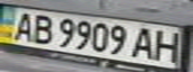0: (90, 20, 112, 53)
9: (51, 16, 78, 48), (109, 22, 130, 56), (72, 19, 93, 52)
A: (130, 25, 160, 61), (6, 10, 39, 42)
B: (27, 11, 57, 45)
H: (151, 28, 187, 63)
